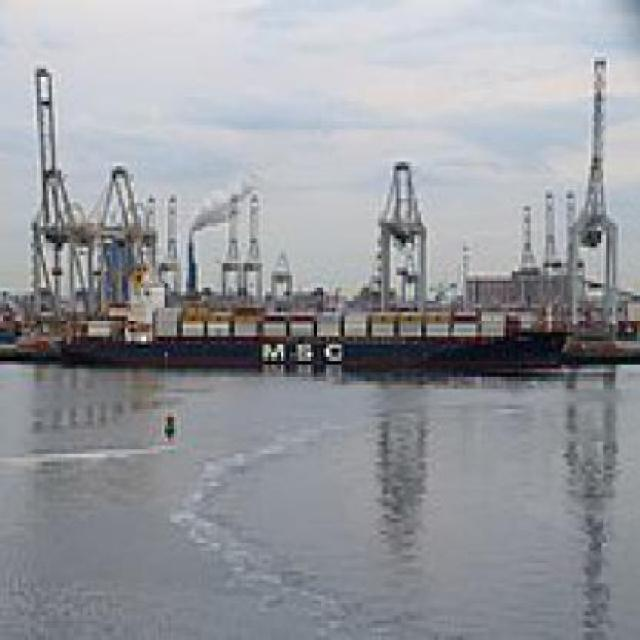container: (56, 187, 577, 378)
